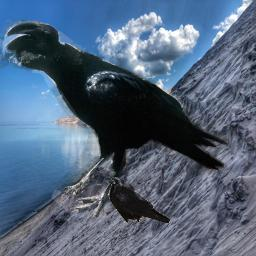Crow: (0, 20, 228, 218), (107, 177, 170, 223)
